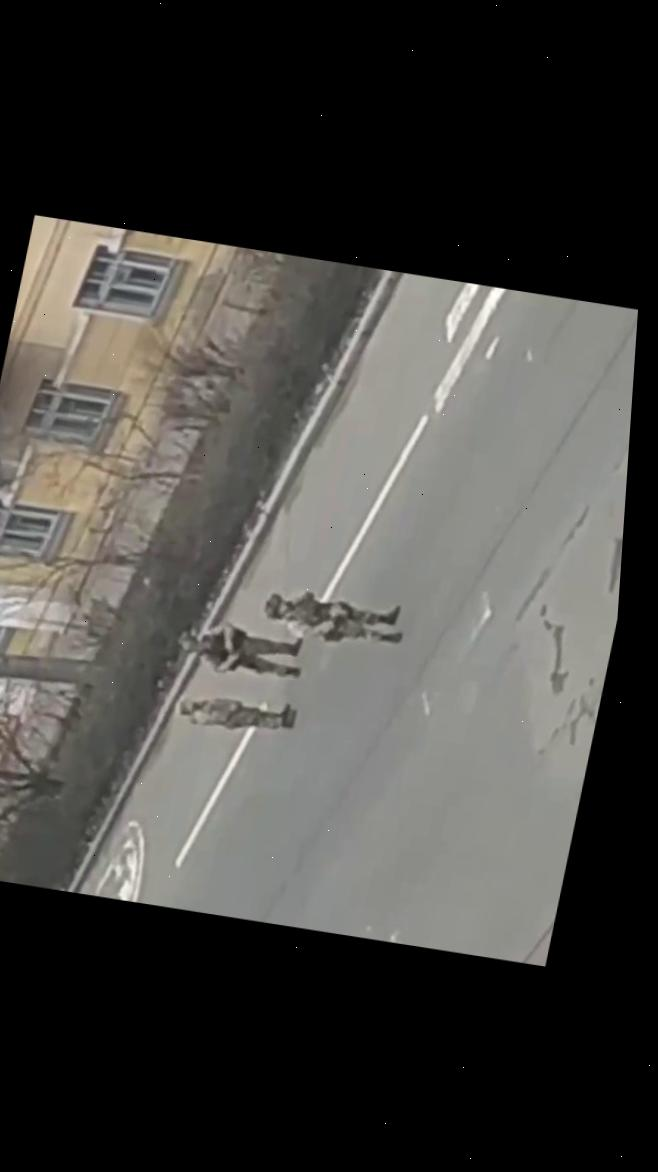person: (255, 580, 411, 656), (171, 616, 308, 688), (167, 683, 301, 743)
